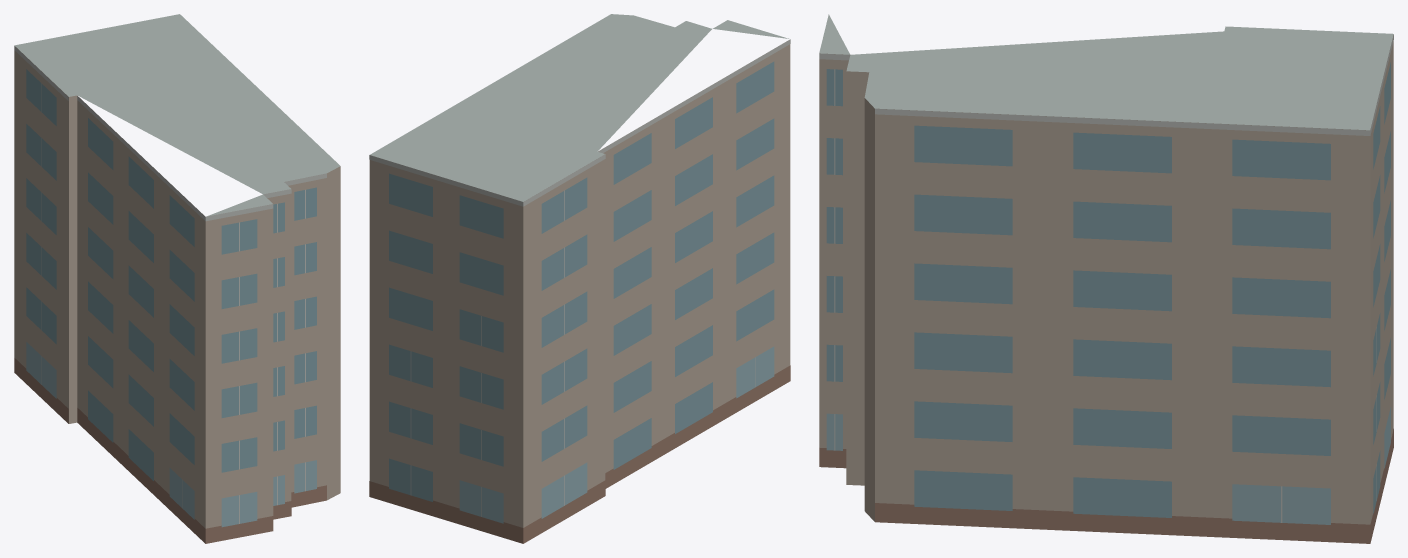
The model's file is survey-upis-33041268.glb.
3 views of the same model, side by side, from view 1: azimuth 30°, elevation 25°; view 2: azimuth 150°, elevation 25°; view 3: azimuth 270°, elevation 25° (orthographic). The views are drawn at different scales.
Parts seen in each view (by area): view 1: survey-upis-33041268.tmp; view 2: survey-upis-33041268.tmp; view 3: survey-upis-33041268.tmp.
Part boxes in pixels (x1,y1,x2,y2): survey-upis-33041268.tmp: (14, 14, 340, 543); survey-upis-33041268.tmp: (369, 14, 790, 543); survey-upis-33041268.tmp: (819, 14, 1393, 543).
Bounding box in the file's own units: 10.5 × 17.4 × 21.92.
